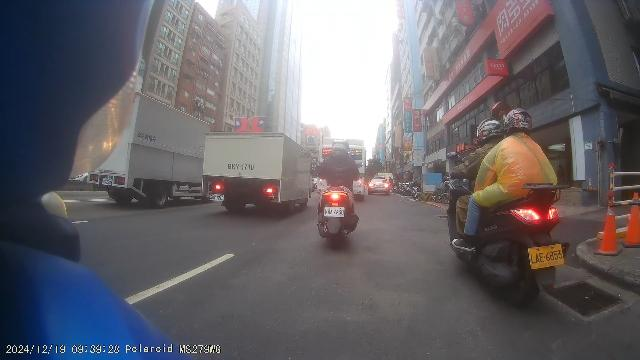plate: (527, 244, 565, 269), (210, 194, 224, 201)
